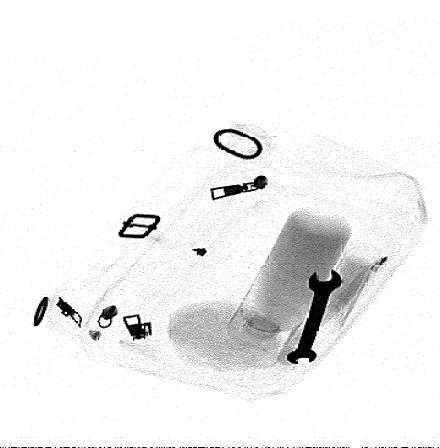Wrench: (284, 265, 344, 368)
